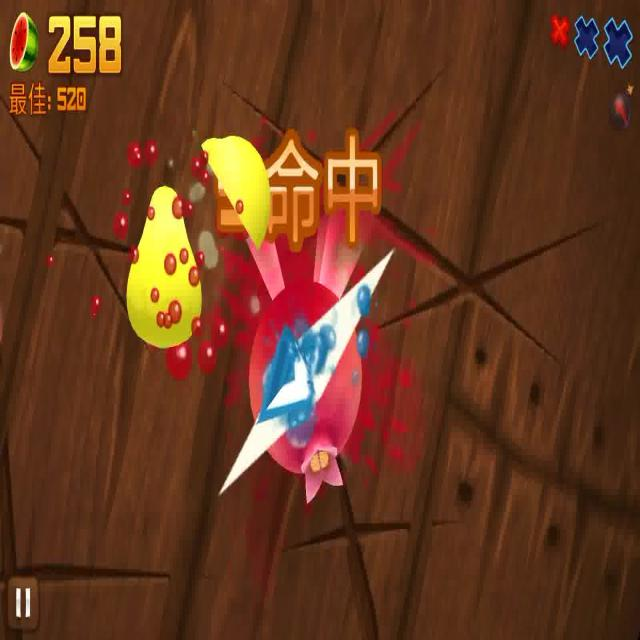fruit: (247, 279, 365, 472), (125, 183, 201, 349), (202, 134, 270, 254)
